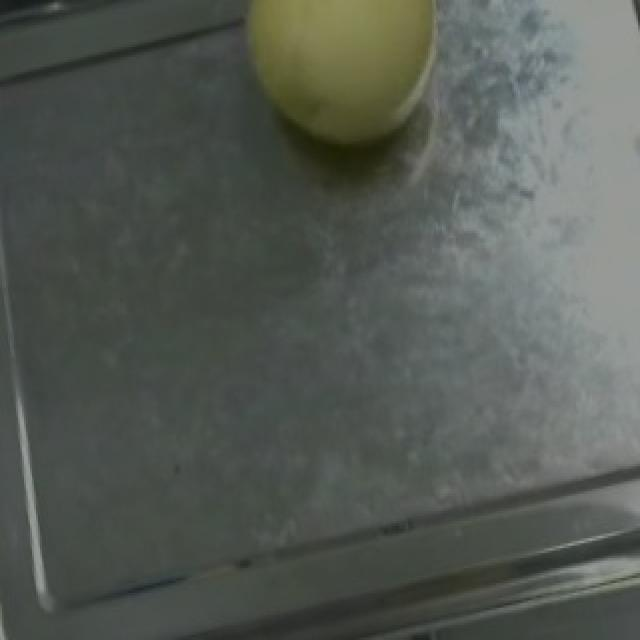Fruit: (208, 0, 476, 184)
